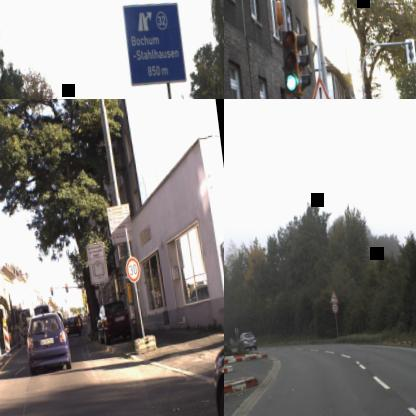DANGER: (305, 73, 334, 99)
bend right: (328, 290, 338, 302)
speed limit 30: (124, 255, 141, 283), (330, 302, 338, 313)
